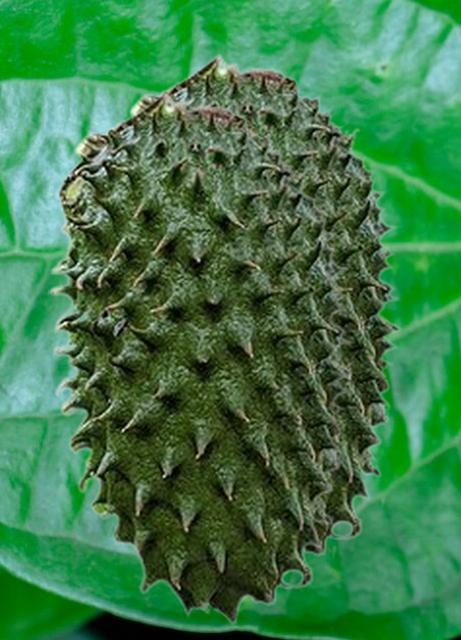guyabano: (48, 89, 354, 624), (124, 52, 402, 574)
